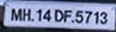character: (10, 8, 21, 21), (54, 8, 63, 22), (74, 9, 83, 23), (22, 7, 30, 21), (99, 10, 107, 24), (63, 9, 72, 21), (43, 8, 51, 21), (84, 10, 92, 22), (36, 8, 42, 21), (93, 10, 98, 23)
